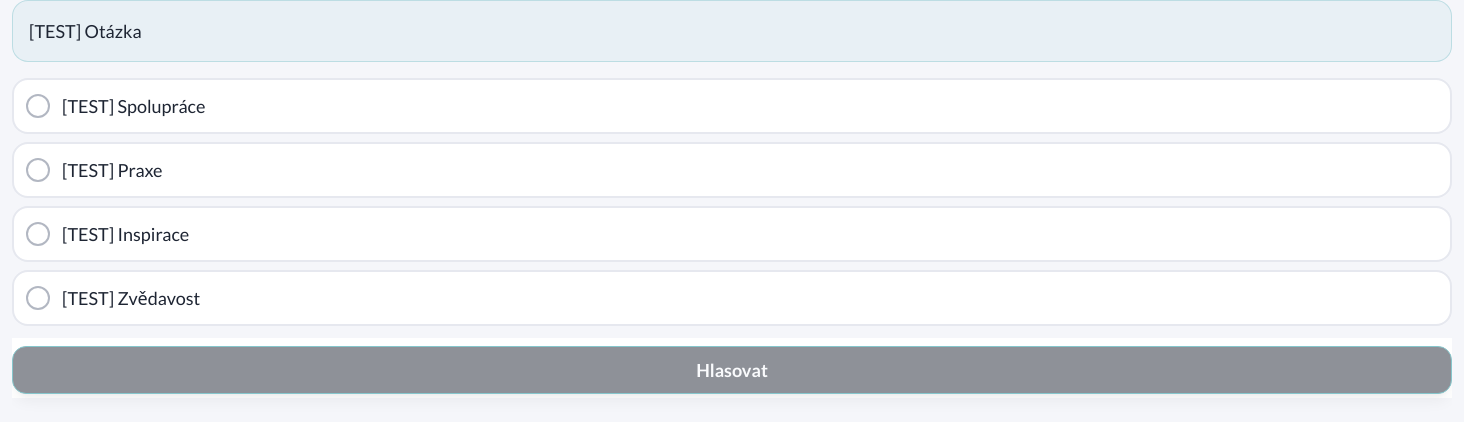
PollActivity – výběr odpovědi › u možností bez ID označí jen vybranou možnost a odešle její index
Click the button "[TEST] Praxe". click: point(112, 170)
box: left=12, top=142, right=1452, bottom=198
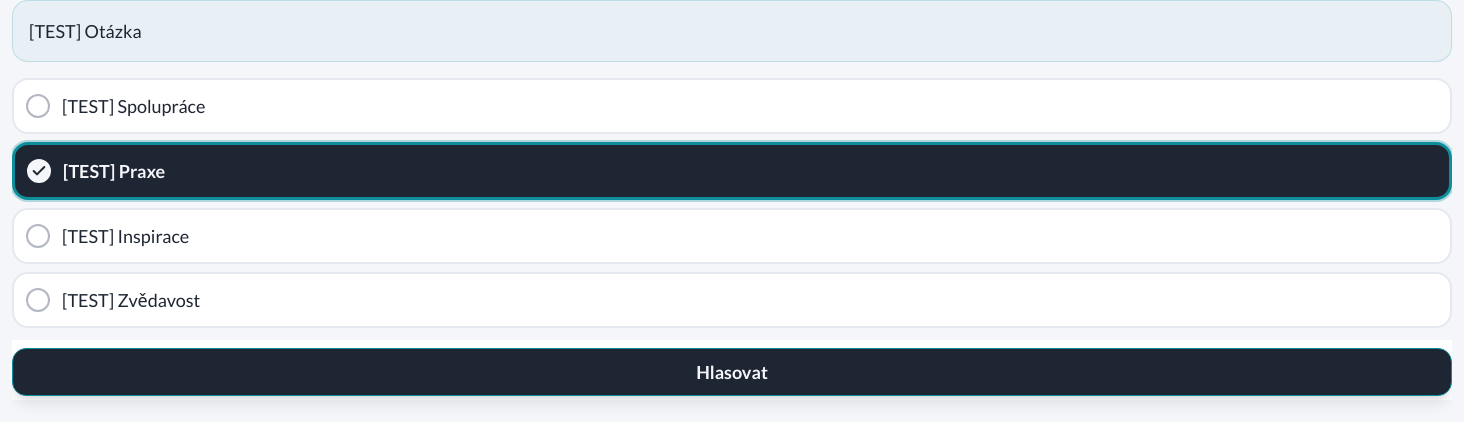
Expected: the button "[TEST] Praxe" is pressed, left=12, top=142, right=1452, bottom=200
Click the button "Hlasovat". click: point(732, 372)
box: left=12, top=348, right=1452, bottom=396
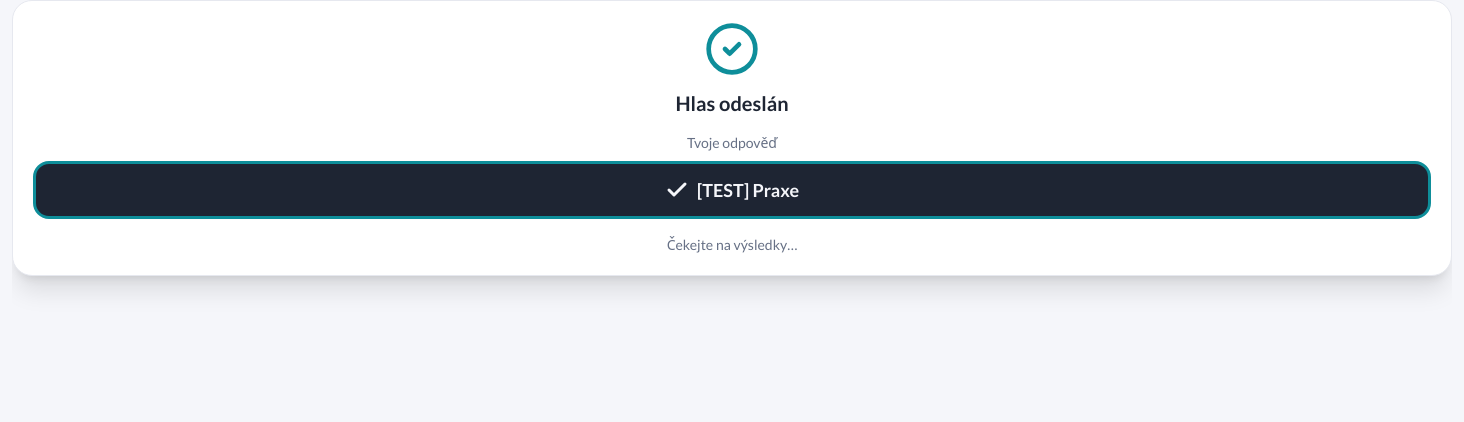
Expected: the text "Hlas odeslán" is shown, left=676, top=89, right=789, bottom=117
Expected: the text "Tvoje odpověď" is shown, left=687, top=133, right=777, bottom=153
